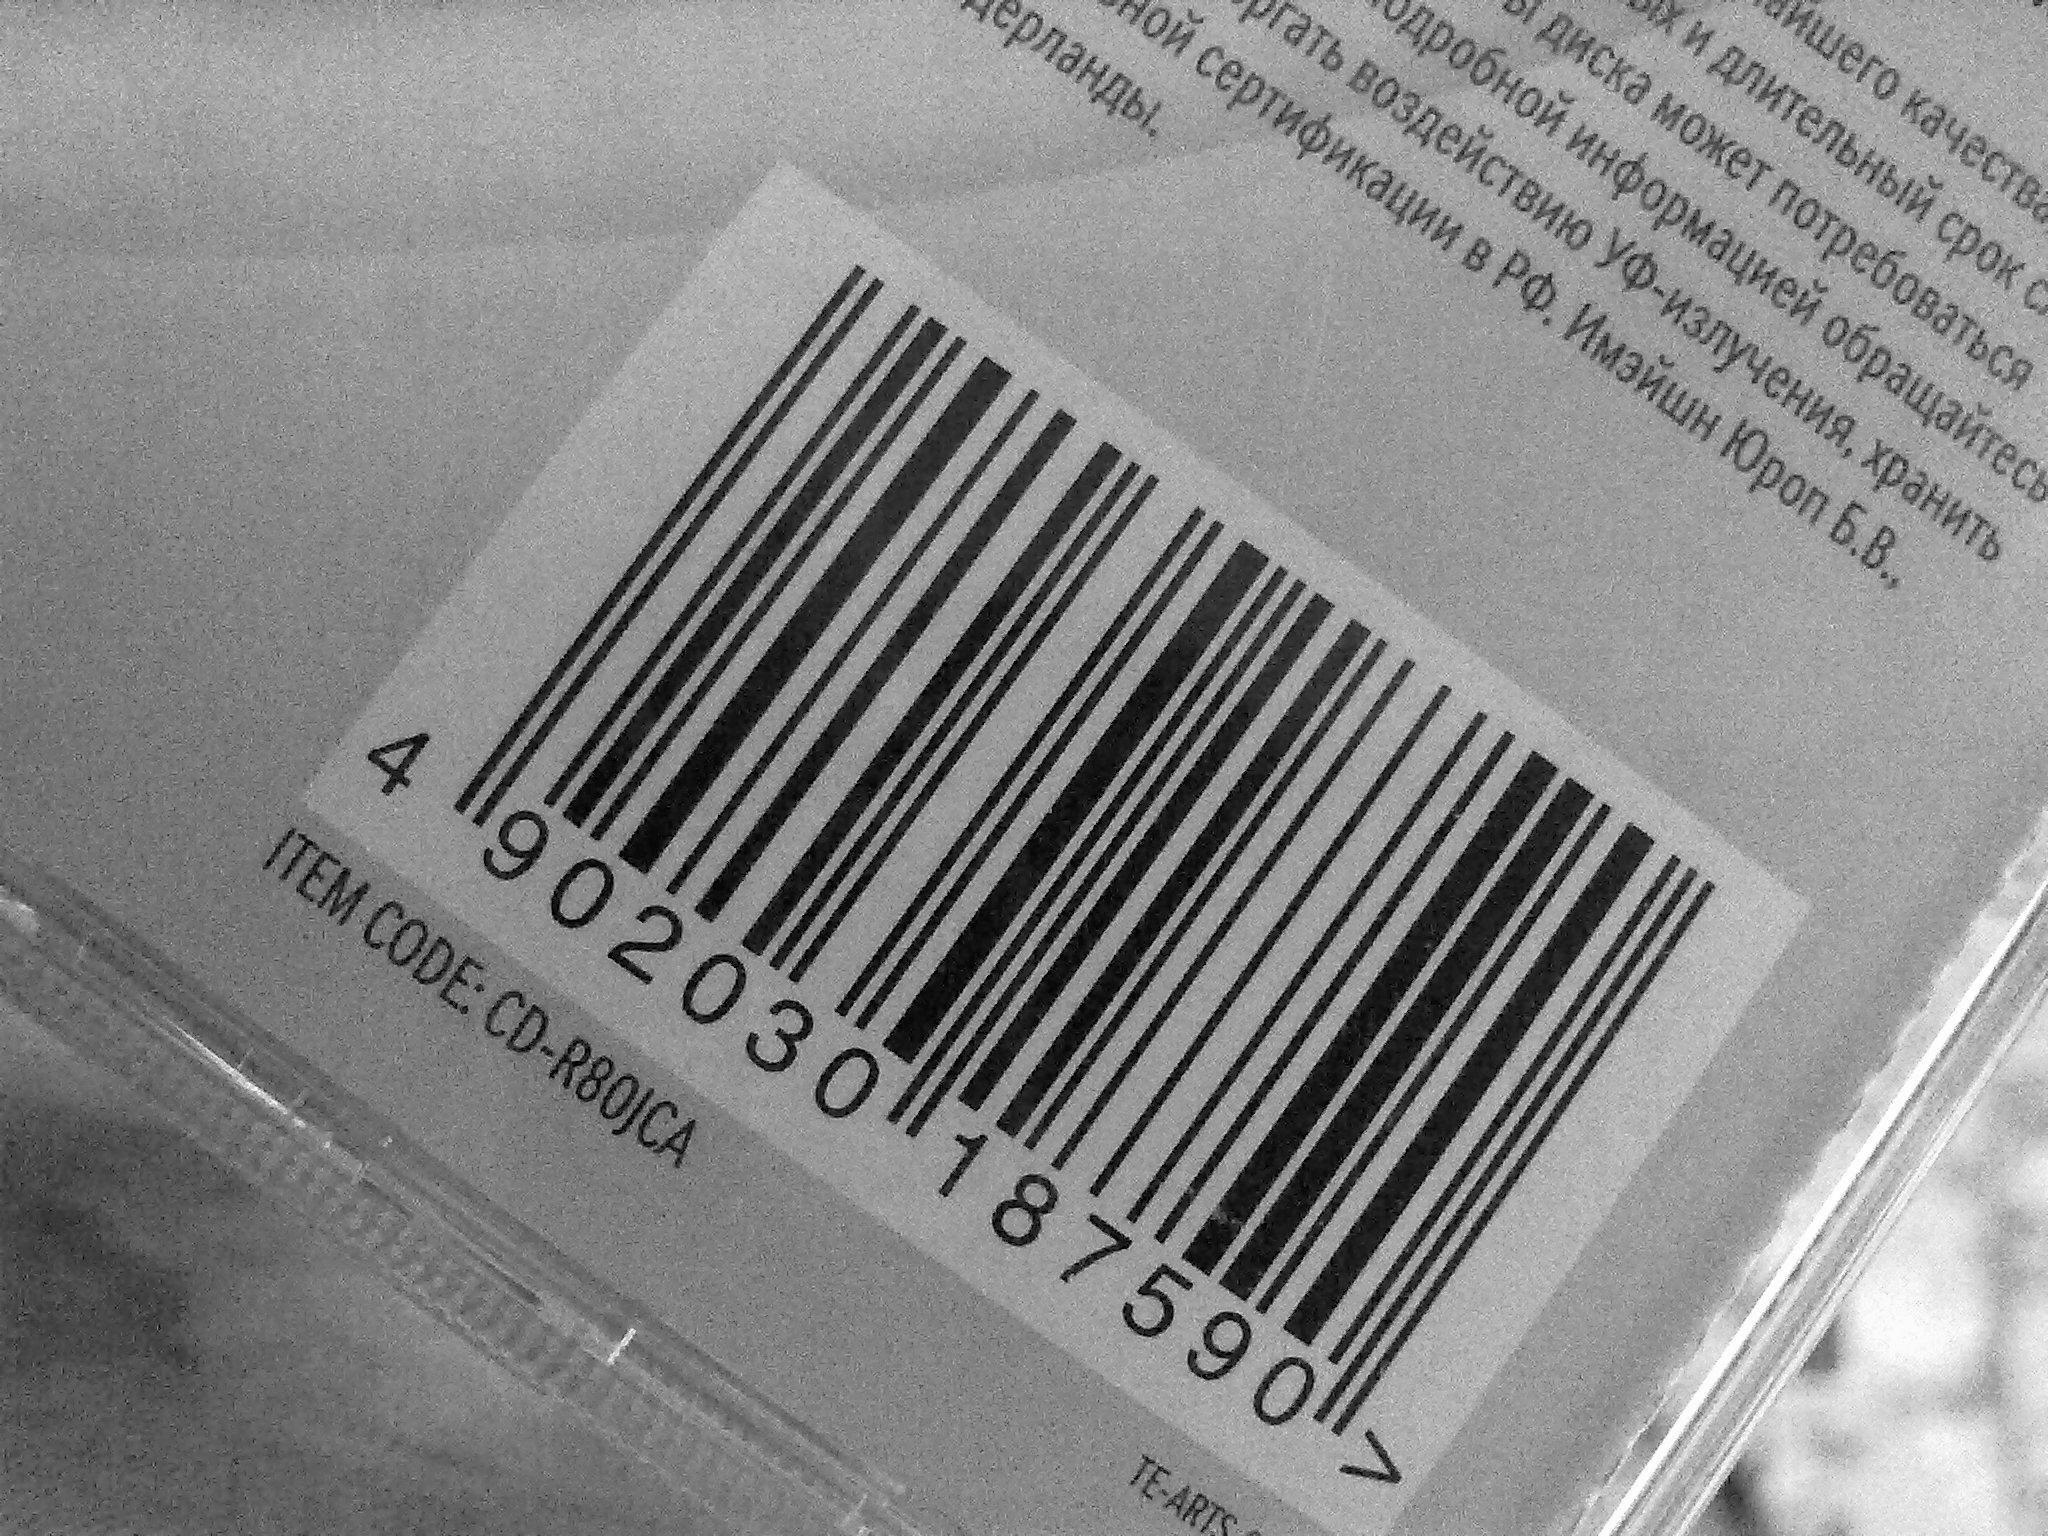Barcode: (429, 200, 1730, 1478)
